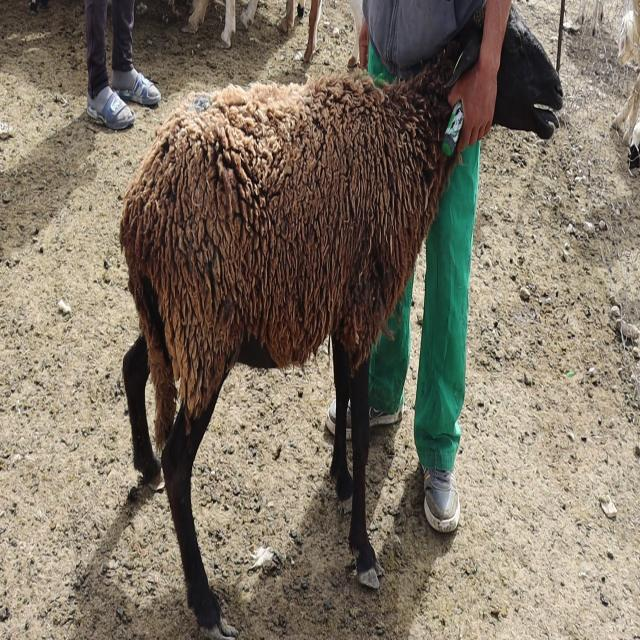Score_1: (121, 21, 482, 639)
